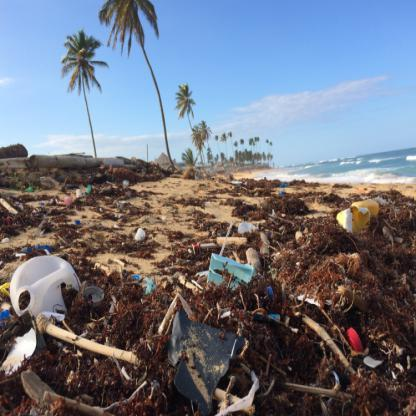Plastic: (11, 253, 75, 321)
